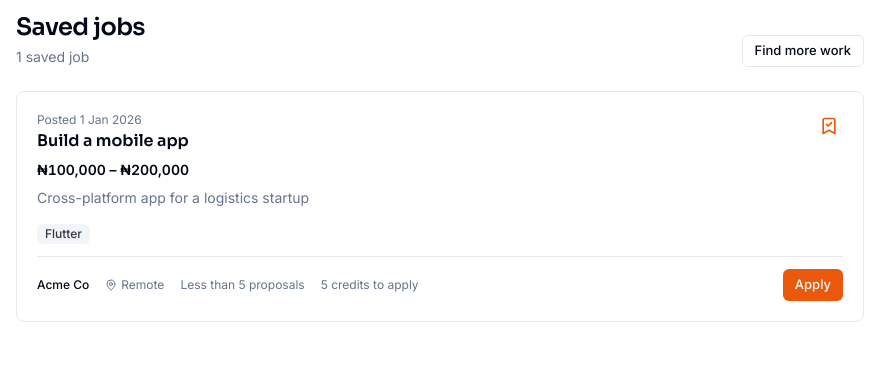
Test case: SavedJobs › removes a job from the list when it is unsaved
Click the button named "Remove from saved". click: (829, 126)
box: [811,108,847,144]
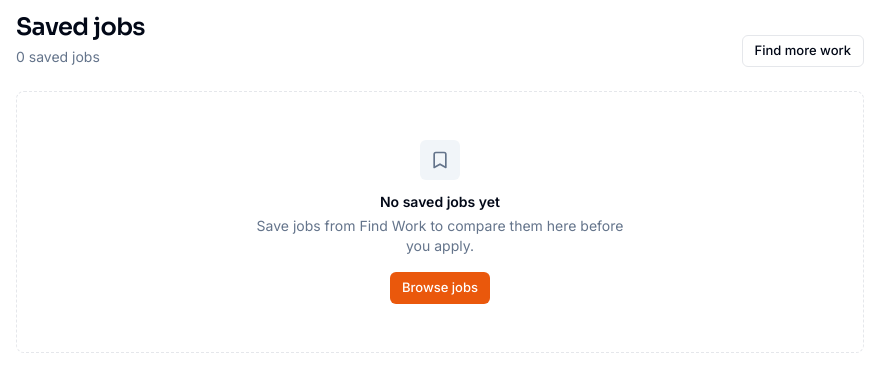
Expected: the button "Build a mobile app" is gone
